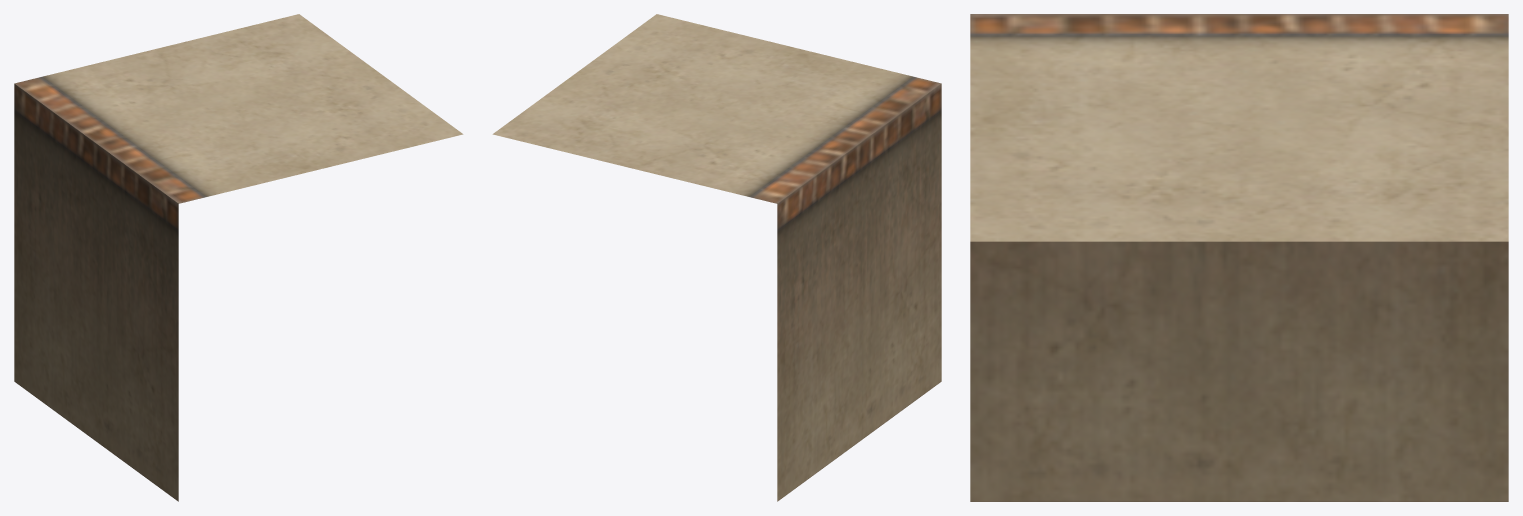
File: oneside_border_road.glb
3 views of the same model, side by side, from view 1: azimuth 30°, elevation 25°; view 2: azimuth 150°, elevation 25°; view 3: azimuth 270°, elevation 25° (orthographic). The views are drawn at different scales.
Parts seen in each view (by area): view 1: Floor_04_08; view 2: Floor_04_08; view 3: Floor_04_08.
Part boxes in pixels (box(x1,y1,x2,y2)): Floor_04_08: box(14, 14, 463, 501); Floor_04_08: box(492, 14, 941, 501); Floor_04_08: box(970, 14, 1508, 501).
Size of the model in its own units: 5 by 5 by 5.
Materials: 3 (3 with a texture image).
